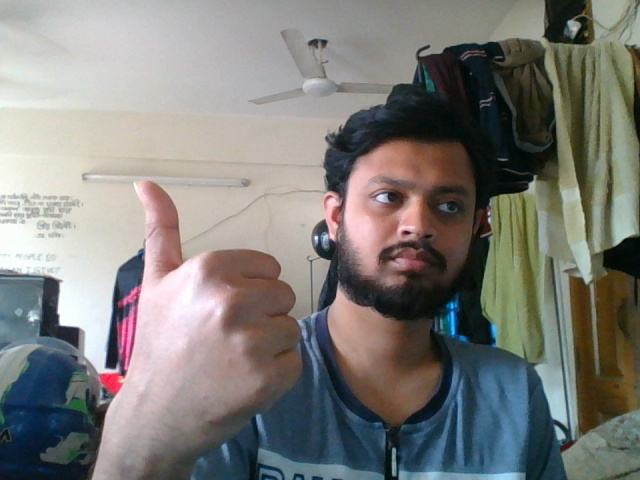do: (109, 175, 310, 466)
